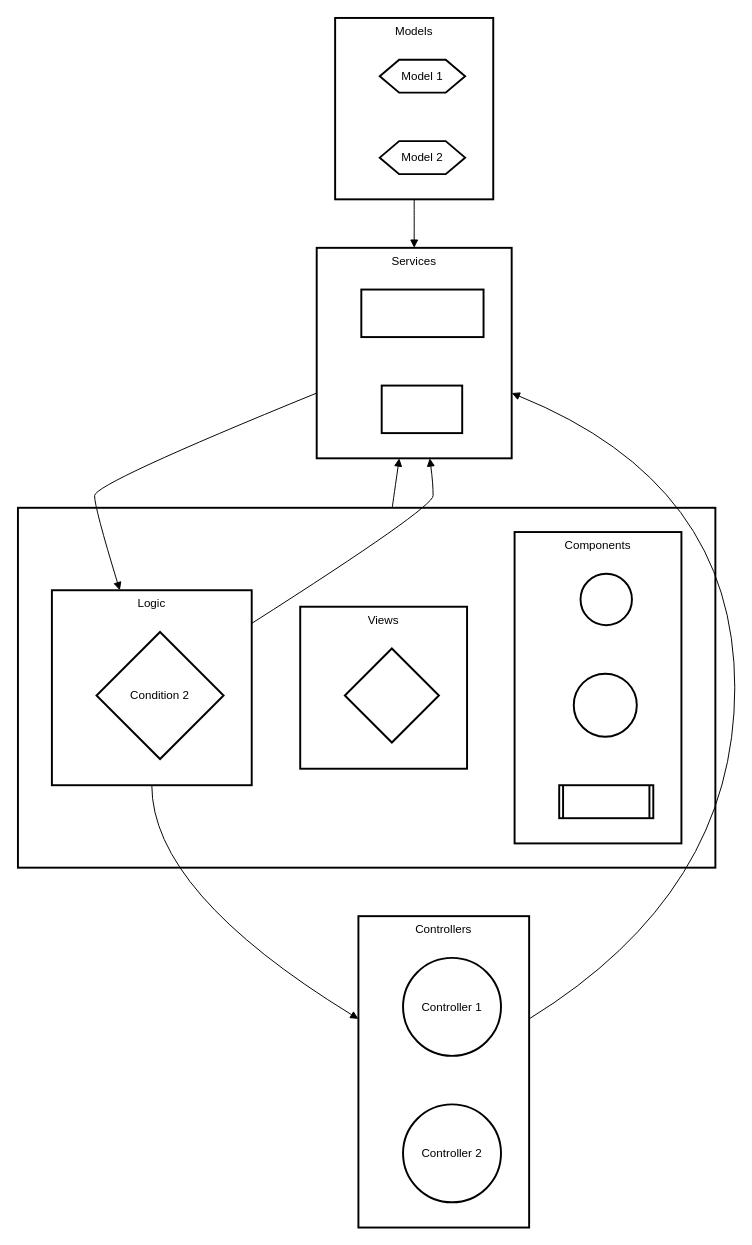
The diagram is 752 pixels wide and 1245 high, and some of its shapes have lost their labels. The shapes that lost their labels are listed below. From the top down, each one's centre as x and y in pixels, then its label:
At (422,313): "Database".
At (421,409): "API".
At (605,599): "Input".
At (391,695): "View 2".
At (604,704): "Output".
At (606,801): "Process 1".
